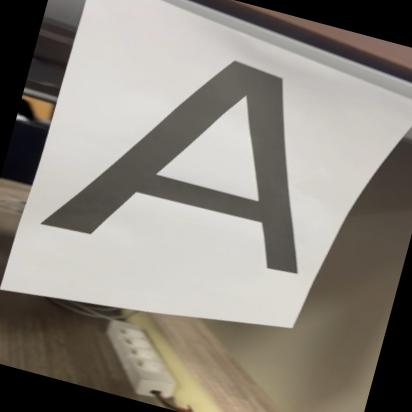seat: (37, 19, 362, 295)
